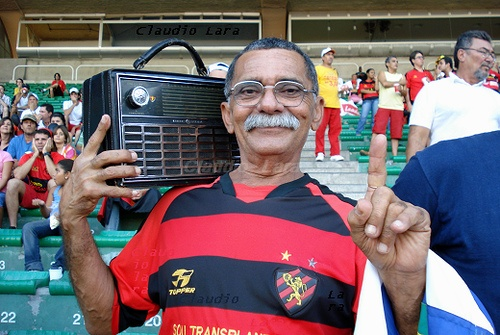head: (221, 35, 327, 162), (454, 28, 497, 89), (53, 158, 73, 185), (33, 128, 54, 153), (19, 113, 38, 136), (410, 50, 427, 73), (318, 48, 336, 69), (37, 103, 53, 126), (384, 55, 401, 75), (54, 126, 69, 147), (437, 56, 451, 78), (66, 87, 82, 104), (25, 94, 40, 112), (1, 117, 13, 135), (364, 67, 377, 83), (53, 71, 62, 84), (15, 77, 24, 88), (1, 83, 5, 96)
person: (56, 34, 434, 335), (373, 20, 498, 335), (403, 29, 499, 160), (23, 158, 68, 274), (4, 127, 54, 227), (365, 55, 409, 161), (312, 47, 345, 160), (403, 50, 432, 109), (5, 111, 38, 160), (354, 68, 377, 134), (1, 128, 13, 227), (50, 123, 74, 162), (62, 85, 80, 134), (9, 83, 30, 116), (18, 92, 38, 121), (37, 102, 55, 130), (434, 54, 452, 78), (48, 71, 65, 96), (1, 118, 13, 151), (1, 84, 9, 118)
